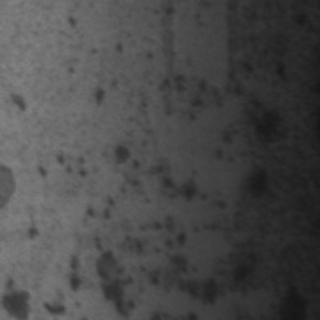pitted_surface: (24, 135, 228, 309), (78, 3, 282, 161)
